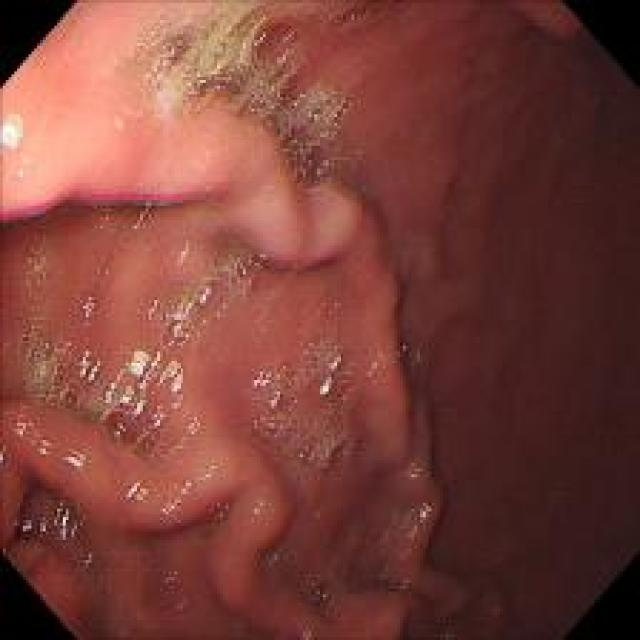bubbles: (136, 8, 344, 189), (255, 330, 362, 470), (10, 222, 85, 409), (245, 26, 312, 115), (99, 405, 156, 456), (188, 270, 240, 324), (149, 295, 192, 355), (154, 26, 201, 68), (325, 4, 399, 28)
color misalignment: (256, 332, 351, 465), (246, 95, 330, 181), (2, 186, 201, 222), (110, 351, 184, 415), (255, 31, 299, 112), (8, 506, 94, 545), (238, 239, 278, 294), (18, 312, 48, 385), (26, 229, 54, 305), (184, 72, 248, 104), (151, 298, 191, 348), (299, 566, 349, 604), (400, 500, 429, 544), (76, 340, 101, 389), (162, 30, 198, 64), (12, 419, 46, 454), (52, 336, 71, 394), (330, 5, 392, 21), (164, 476, 191, 508), (0, 114, 24, 150), (255, 540, 281, 571), (208, 496, 234, 526), (156, 558, 180, 589), (131, 198, 152, 231), (401, 459, 426, 486), (60, 448, 90, 470), (124, 481, 150, 505), (365, 354, 385, 378), (295, 621, 315, 638), (82, 551, 98, 568), (252, 499, 269, 515), (398, 574, 411, 592), (198, 286, 211, 304), (410, 350, 422, 368), (376, 564, 389, 580), (396, 344, 409, 358)
specularity: (10, 505, 89, 545), (9, 415, 50, 459), (161, 475, 189, 514), (58, 444, 91, 472), (170, 298, 190, 340), (122, 478, 152, 505), (120, 389, 148, 415), (80, 351, 100, 384), (130, 349, 146, 380), (178, 236, 191, 264), (318, 376, 334, 398), (198, 286, 209, 305), (250, 378, 271, 386), (268, 396, 279, 410), (331, 356, 340, 370)
